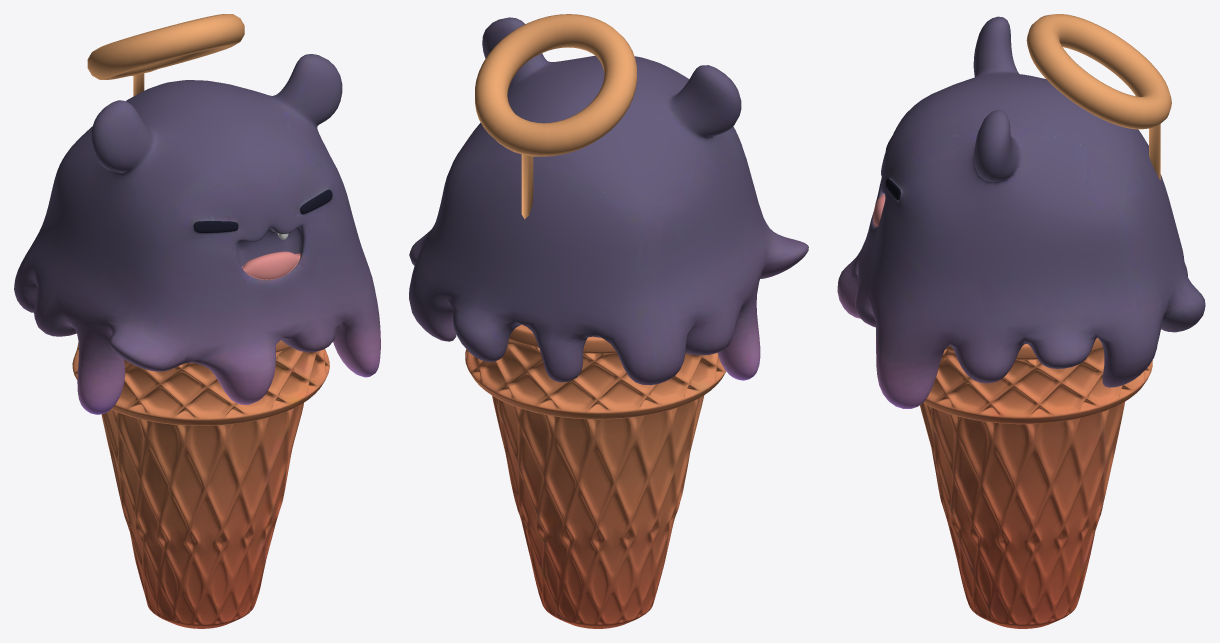
File: icecream-transformed.glb
3 renders of one model, left to right at view 1: azimuth 30°, elevation 25°; view 2: azimuth 150°, elevation 25°; view 3: azimuth 270°, elevation 25°, orthographic. The views are drawn at different scales.
Visible parts, largest first — view 1: Object_8, Object_4, Object_6, Object_9, Object_11; view 2: Object_8, Object_4, Object_6; view 3: Object_8, Object_4, Object_6.
Boxes of the visible parts, box(x1,y1,x2,y2) form: Object_8: box(14, 54, 380, 414); Object_4: box(72, 340, 329, 628); Object_6: box(87, 14, 244, 96); Object_9: box(242, 251, 300, 279); Object_11: box(194, 189, 332, 232); Object_8: box(409, 17, 808, 385); Object_4: box(465, 324, 725, 628); Object_6: box(475, 14, 636, 219); Object_8: box(837, 16, 1205, 408); Object_4: box(920, 338, 1152, 628); Object_6: box(1026, 14, 1171, 179).
Size of the model in its own units: 2.85 by 5.22 by 2.95.
6 materials, 2 textured.
